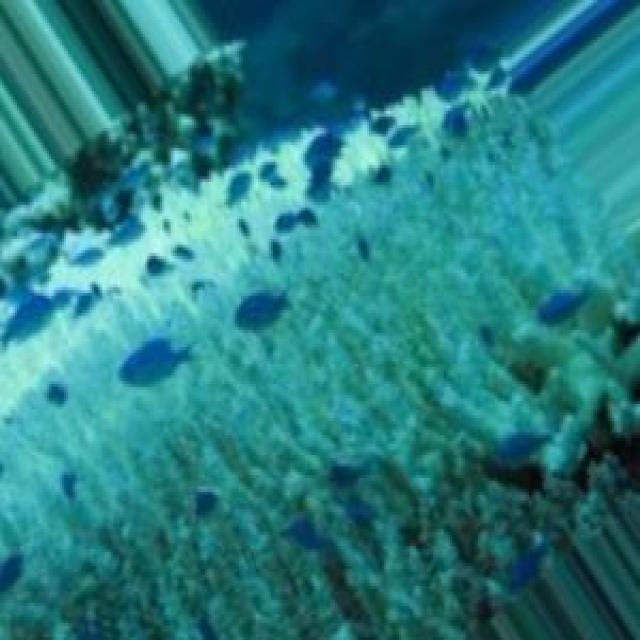Bleached: (2, 8, 640, 639)
